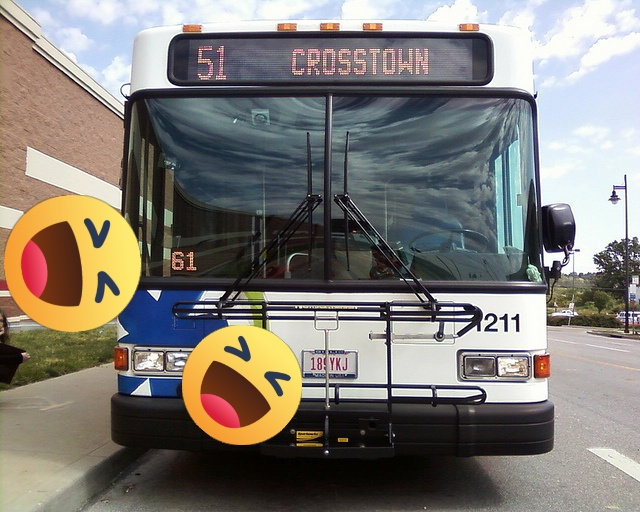haha: (4, 195, 141, 332), (182, 325, 302, 445)
